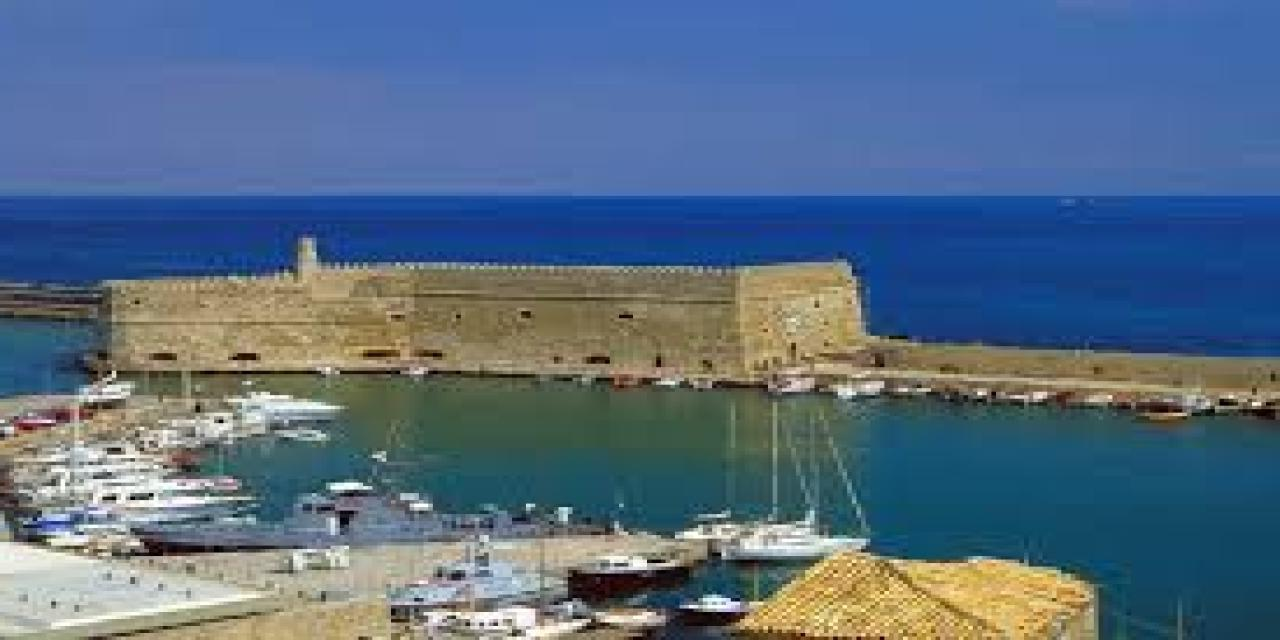Kules: (70, 235, 878, 376)
